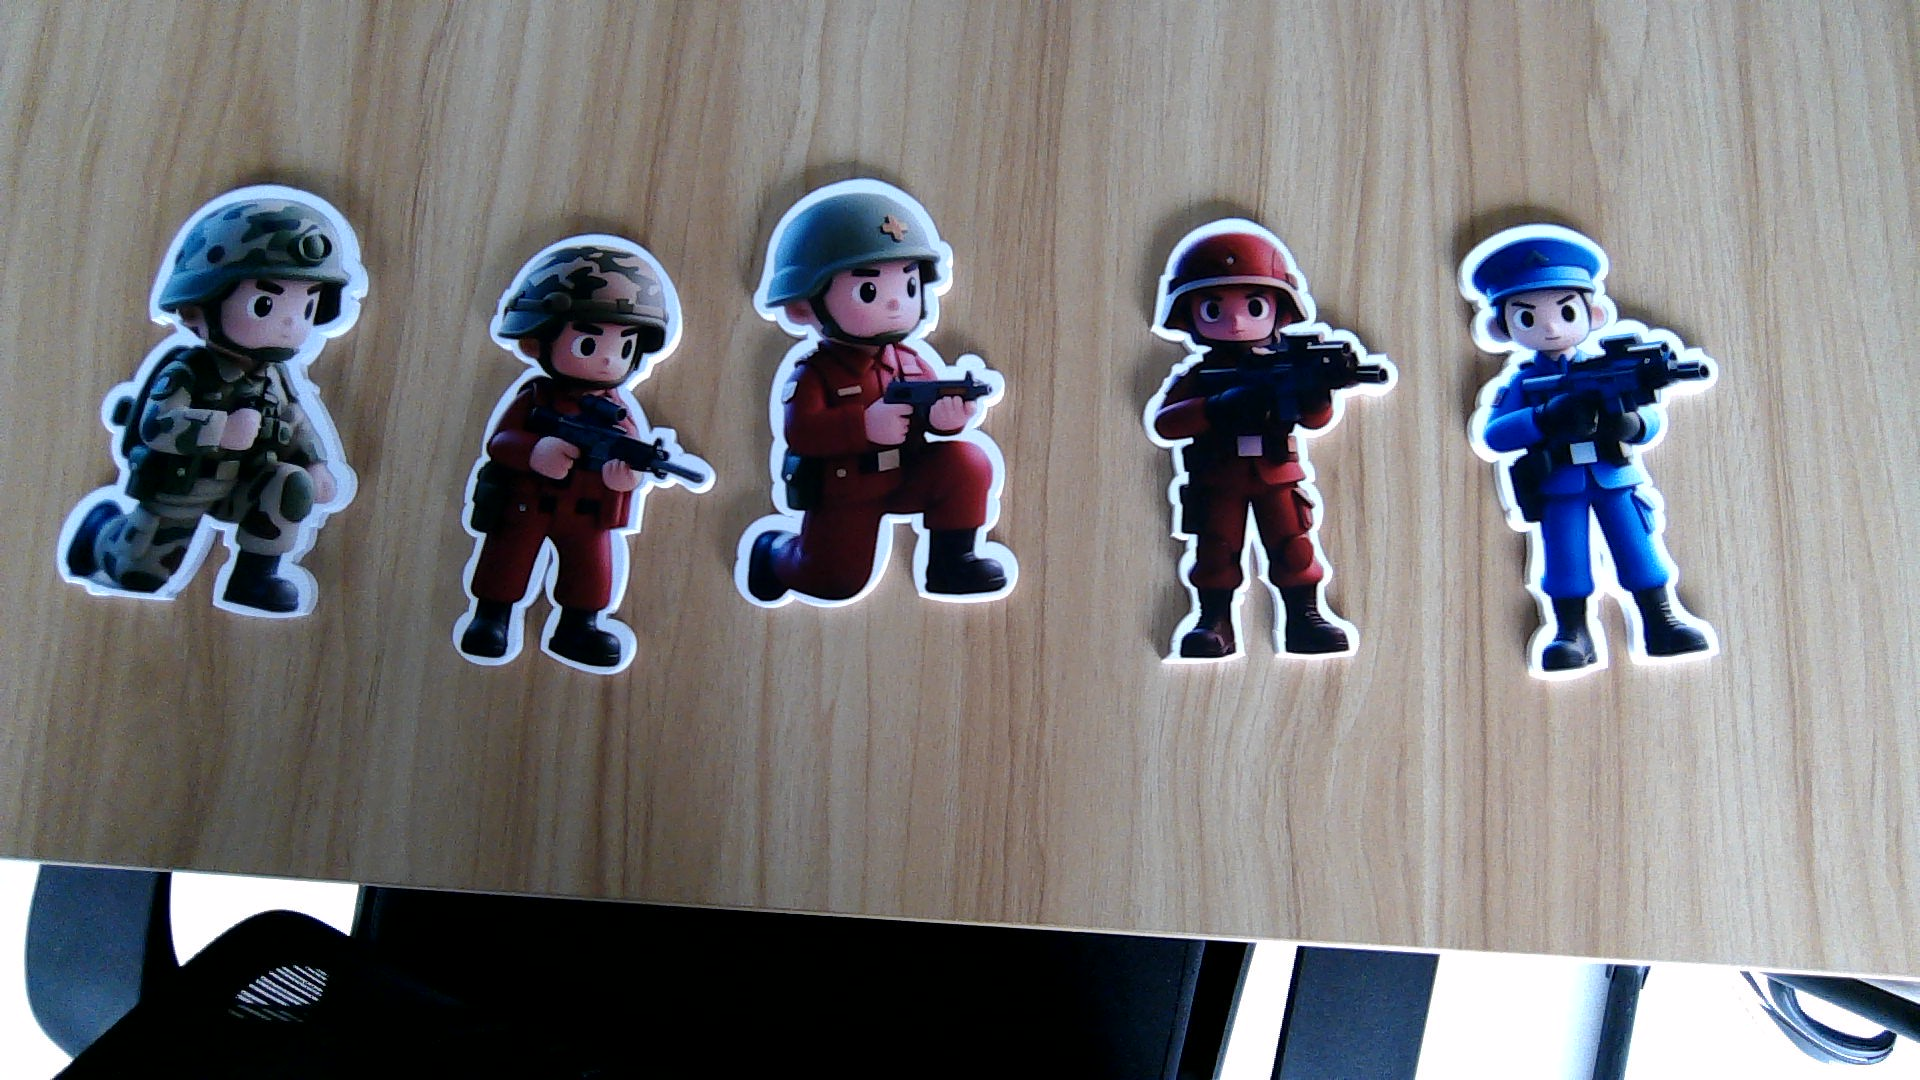友军: (50, 357, 356, 626)
敌人1: (731, 339, 1031, 618), (1124, 353, 1391, 663), (446, 386, 698, 673)
敌人2: (1462, 348, 1739, 680)
